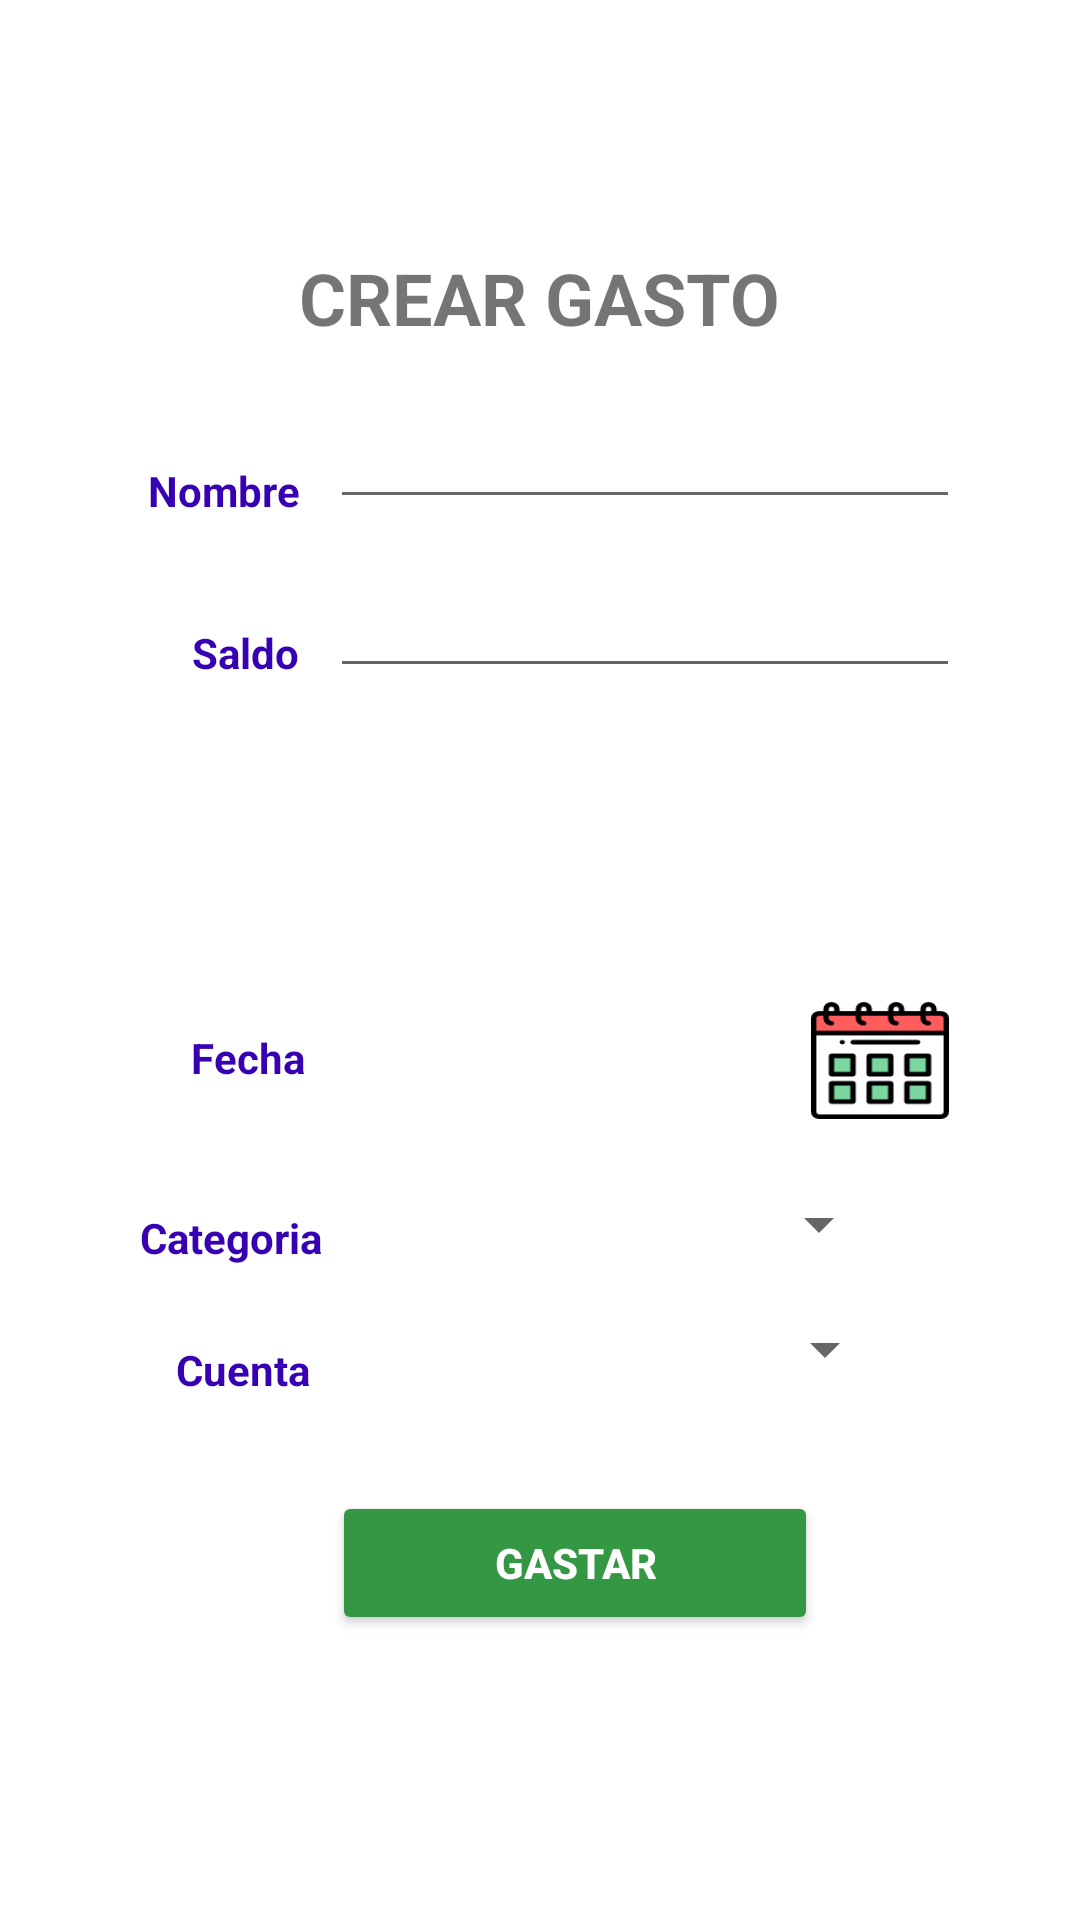

Named icons in this screenshot (1080 x 1920) and their bounding boxes, (x1, y1, x2, y2):
calendario: (811, 1002, 949, 1119)
